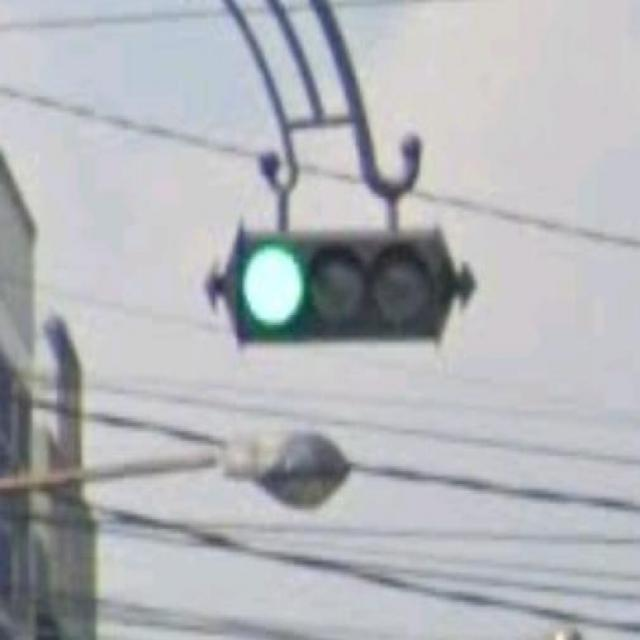green_light: (224, 227, 451, 335)
